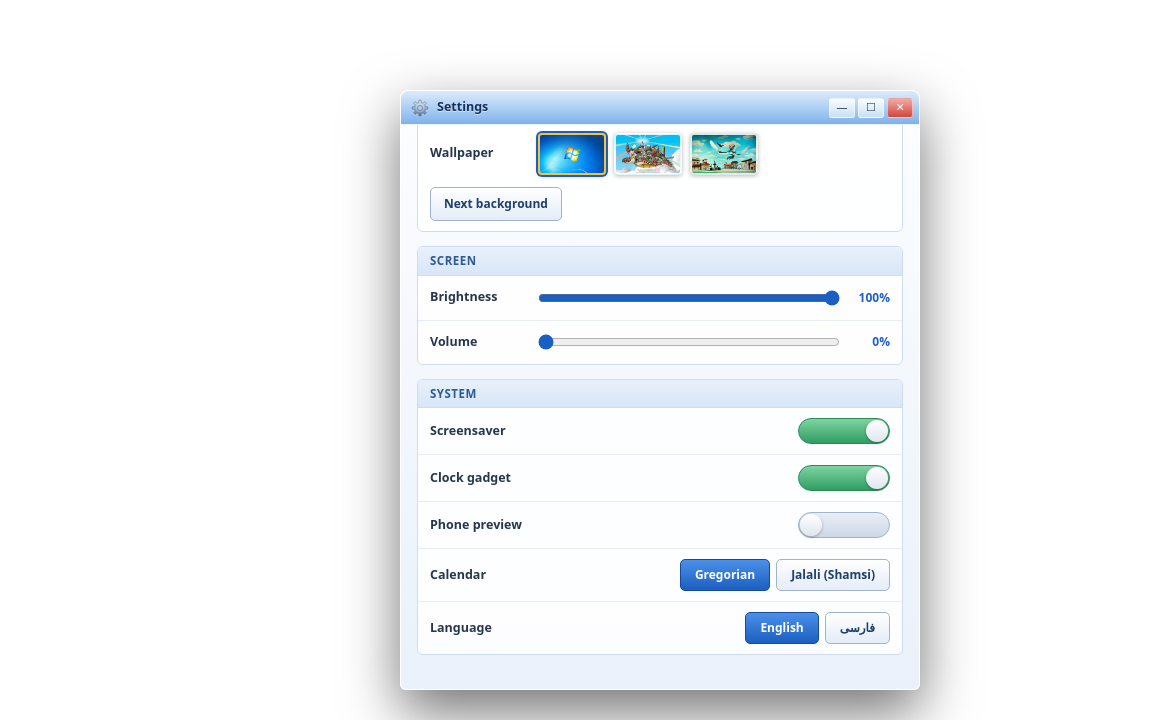
Scenario: SettingsWindow › language › switches back to English
(page scrolled)
Click the button with test id "settings-lang-fa" at (857, 628), box x1=825 y1=612 x2=890 y2=644
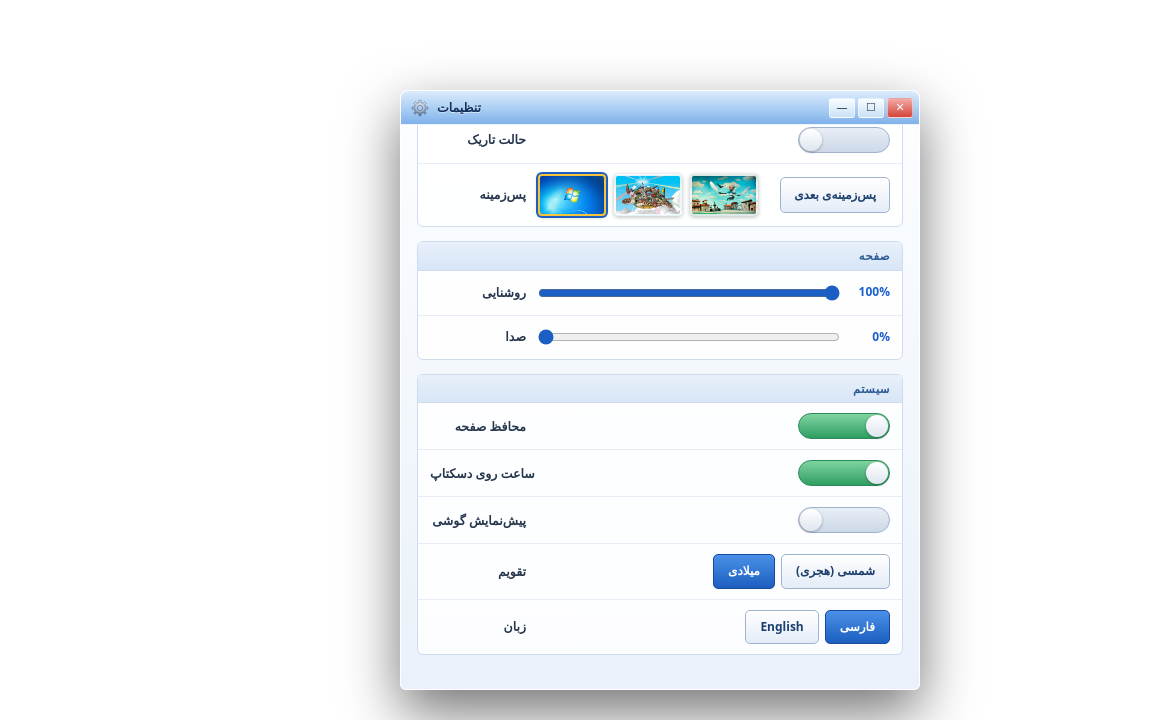
Click the button with test id "settings-lang-en" at (782, 627), box x1=745 y1=610 x2=819 y2=644
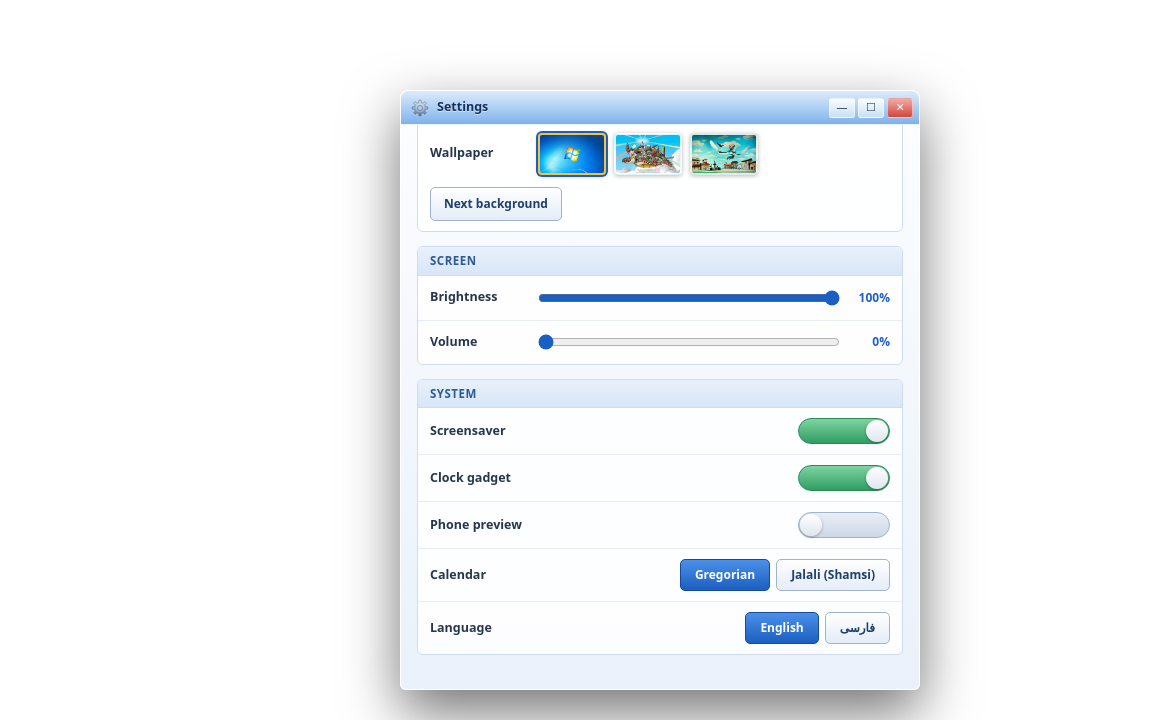
Result: the element with test id "settings-window" shows "Brightness" at x1=430 y1=288 x2=498 y2=305
